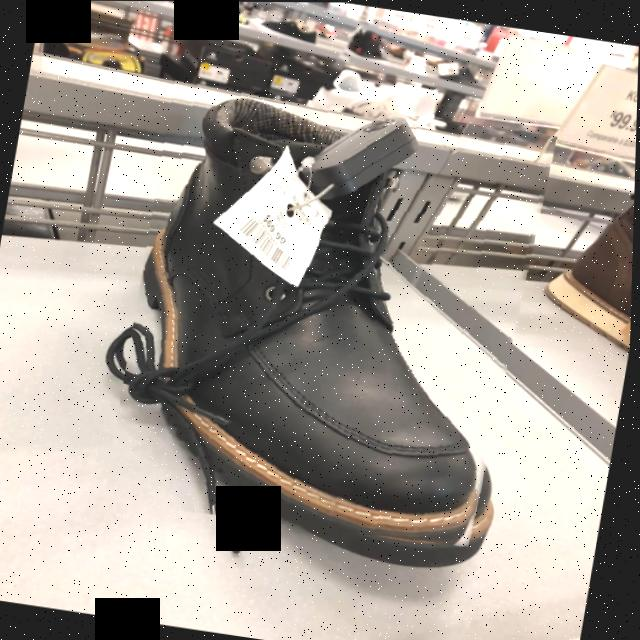shoe: (140, 91, 484, 542)
